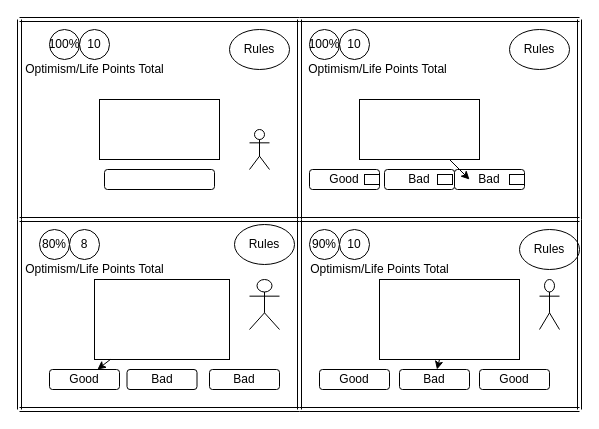
This 599x429 diagram has some shape labels left out. Each missing label, with the centre of its shape:
"baby pic" goes at [259,149].
"Bad Tot" goes at [264,304].
"Congrats, User! You have a new baby. Choose 1 of 3 choices:" goes at [419,129].
"Enter Your Name:" goes at [159,179].
"good Kinder" goes at [549,304].
"Ready to Play Bringing Up Baby? Yes/No?" goes at [159,129].
"You have a bad Toddler! You must make another choice." goes at [162,319].
"You've got a Good Kindergartner! Make another choice." goes at [449,319].
